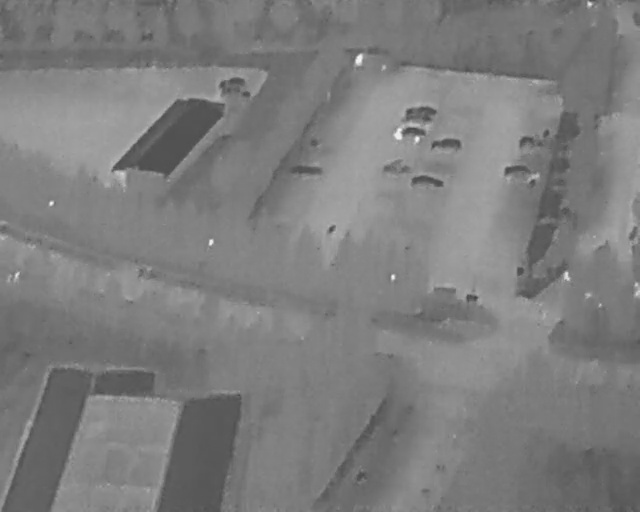Car: (394, 127, 426, 143), (410, 176, 444, 191), (504, 165, 533, 182), (431, 139, 462, 154), (405, 106, 437, 118), (217, 76, 246, 89), (221, 87, 250, 100), (520, 137, 545, 152), (401, 117, 433, 127)
